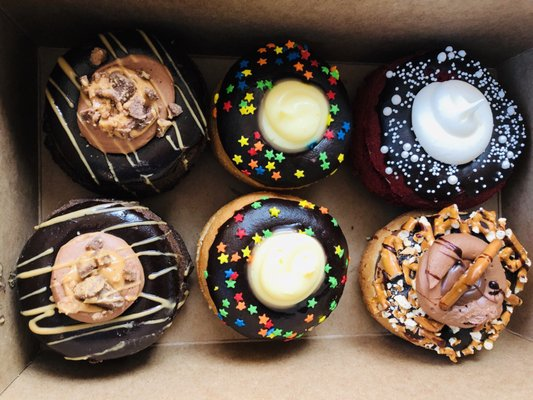salad: (348, 45, 529, 212), (358, 205, 532, 363), (196, 194, 351, 342), (210, 39, 354, 191)
